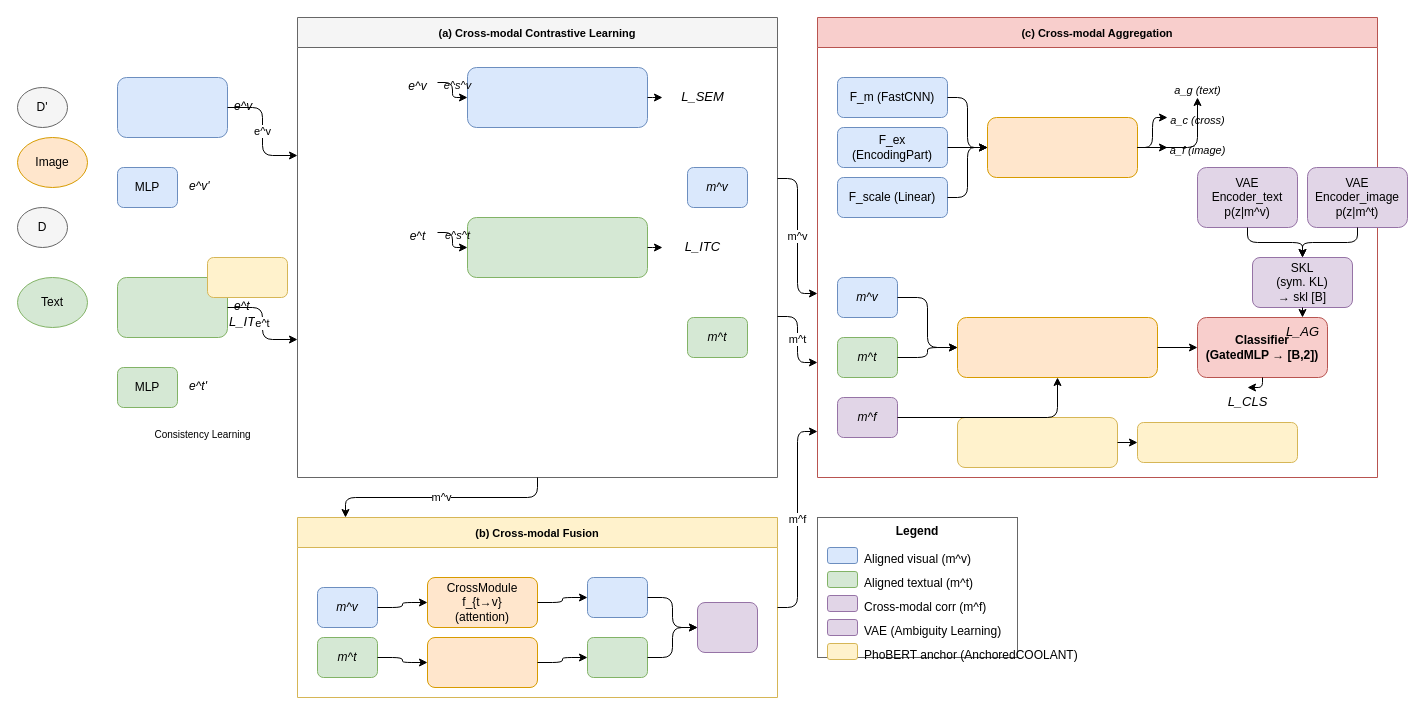
The diagram is 1425 pixels wide and 715 high, and some of its shapes have lost their labels. The shapes that lost their labels are listed below. From the top down, each one's centre as x and y in pixels, then its label:
At (x=172, y=107): "Visual Encoder (ResNet50)".
At (x=557, y=97): "Semantic Similarity Matrix (Build target)".
At (x=1062, y=147): "Attention mechanism (SEAttentionModule)".
At (x=557, y=247): "Predicted Similarity Matrix (Contrastive Learning)".
At (x=247, y=277): "Classifier".
At (x=172, y=307): "Text Encoder (PhoBERT)".
At (x=1057, y=347): "Weighted Fusion (a_g * m^v + a_c * m^f + a_f * m^t)".
At (x=1037, y=442): "PhoBERT CLS [B,768] (Stage 3.9 anchor)".
At (x=1217, y=442): "anchor_proj Linear(768→64)+BN+ReLU".
At (x=617, y=597): "m_f^v".
At (x=727, y=627): "m^f (correlation)".
At (x=482, y=662): "CrossModule f_{v→t} (attention)".
At (x=617, y=657): "m_f^t".
